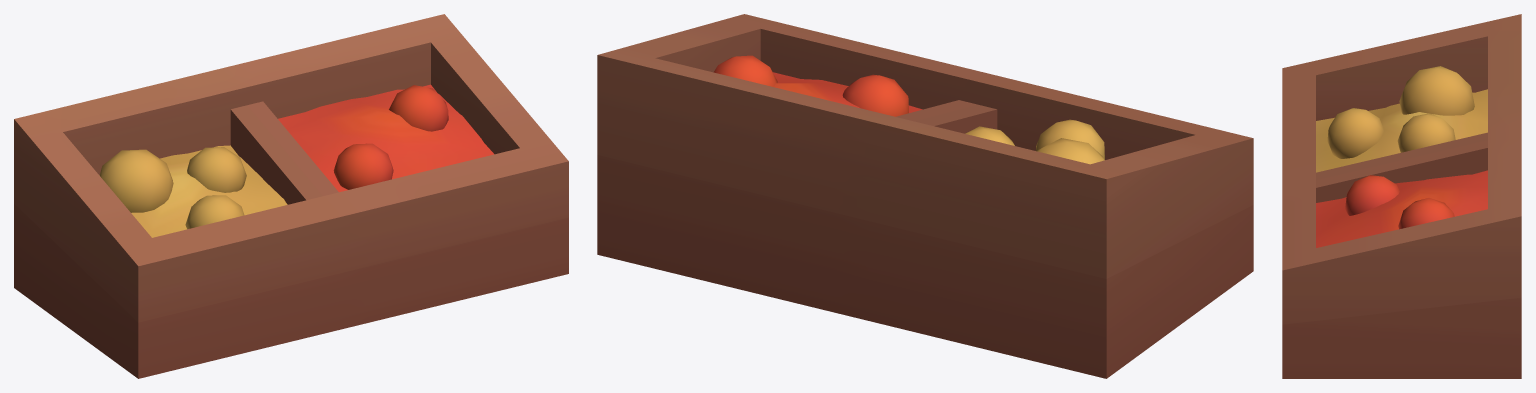
File: kay-caixote-longo.gltf
The picture shows the model from 3 angles, left to right: view 1: azimuth 30°, elevation 25°; view 2: azimuth 150°, elevation 25°; view 3: azimuth 270°, elevation 25°; orthographic projection. The views are drawn at different scales.
Visible parts, largest first — view 1: crate_long_A; view 2: crate_long_A; view 3: crate_long_A.
Part boxes in pixels (<box>): crate_long_A: <box>14,14,568,378</box>; crate_long_A: <box>597,14,1253,378</box>; crate_long_A: <box>1282,14,1521,378</box>.
Size of the model in its own units: 2 by 0.7501 by 1.
Materials: 1 (1 with a texture image).
